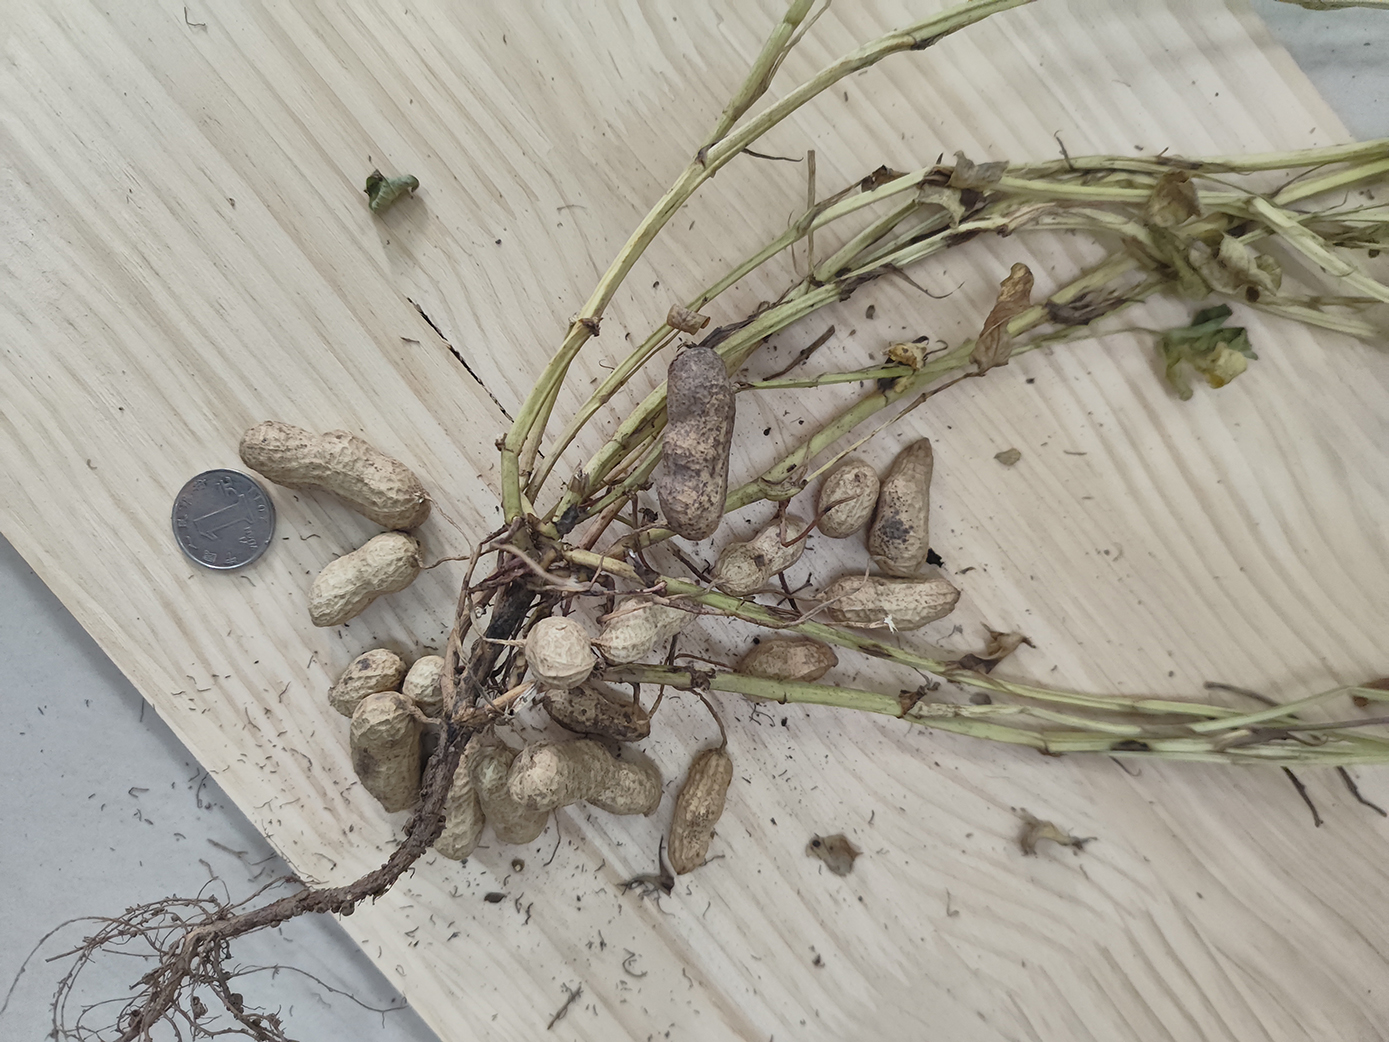h: (239, 421, 429, 534), (512, 742, 664, 817), (306, 531, 416, 628), (351, 692, 423, 814), (870, 437, 933, 576), (669, 752, 733, 876), (468, 746, 548, 844), (826, 575, 960, 630), (716, 516, 805, 597), (738, 641, 838, 705), (544, 683, 652, 741), (599, 597, 701, 655), (435, 740, 481, 861), (523, 618, 600, 691), (327, 648, 403, 716), (817, 462, 882, 539), (403, 656, 461, 719)
l: (655, 344, 736, 540)
